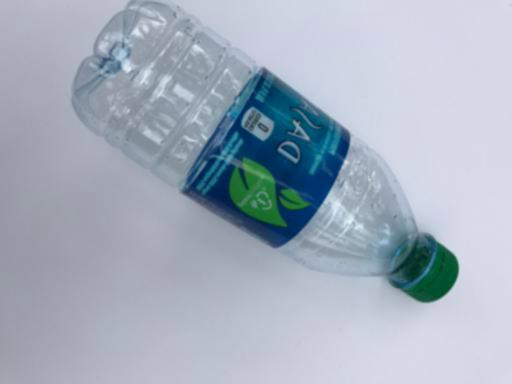PET: (70, 1, 459, 305)
dasani: (70, 1, 459, 305)
plastic: (70, 1, 459, 305)
water: (70, 1, 459, 305)
